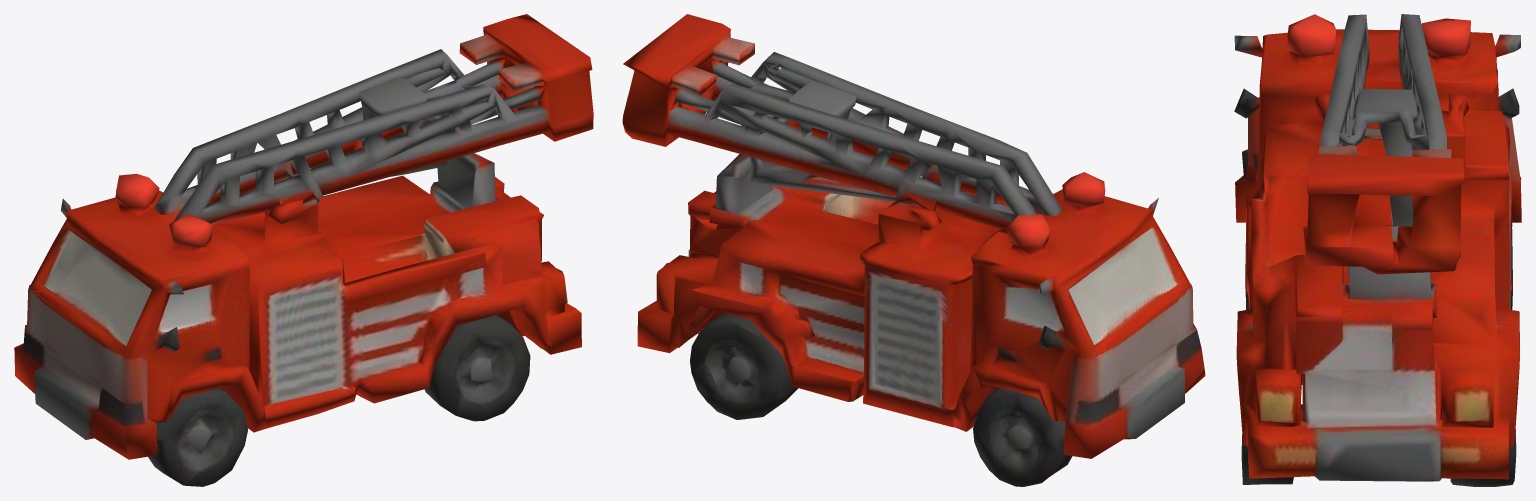
File: fire-truck.glb
The picture shows the model from 3 angles, left to right: view 1: azimuth 30°, elevation 25°; view 2: azimuth 150°, elevation 25°; view 3: azimuth 270°, elevation 25°; orthographic projection. The views are drawn at different scales.
Visible parts, largest first — view 1: tripo_node_7b908277-8315-4eb9-8313-58b6ac558825; view 2: tripo_node_7b908277-8315-4eb9-8313-58b6ac558825; view 3: tripo_node_7b908277-8315-4eb9-8313-58b6ac558825.
Part boxes in pixels (x1,y1,x2,y2): tripo_node_7b908277-8315-4eb9-8313-58b6ac558825: [14, 14, 593, 486]; tripo_node_7b908277-8315-4eb9-8313-58b6ac558825: [622, 14, 1205, 486]; tripo_node_7b908277-8315-4eb9-8313-58b6ac558825: [1234, 14, 1521, 486].
Size of the model in its own units: 1 by 0.5889 by 0.4048.
Materials: 1 (1 with a texture image).
